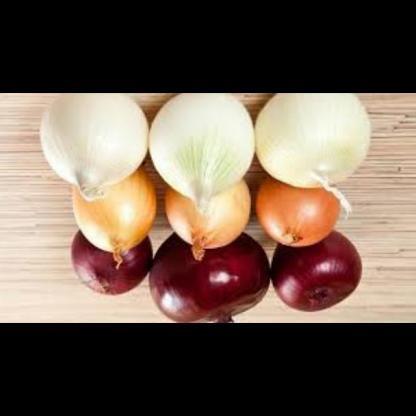onion: (148, 94, 257, 211), (37, 94, 152, 199), (254, 94, 373, 193), (151, 229, 269, 324), (71, 169, 156, 265), (265, 233, 363, 316), (161, 172, 251, 260), (254, 179, 344, 251), (72, 225, 152, 299)
